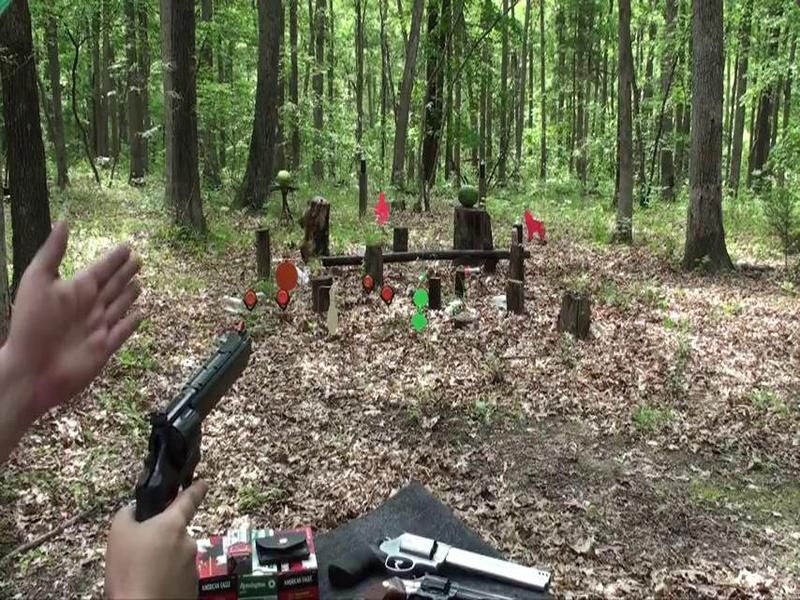Revolver: (127, 319, 261, 539)
